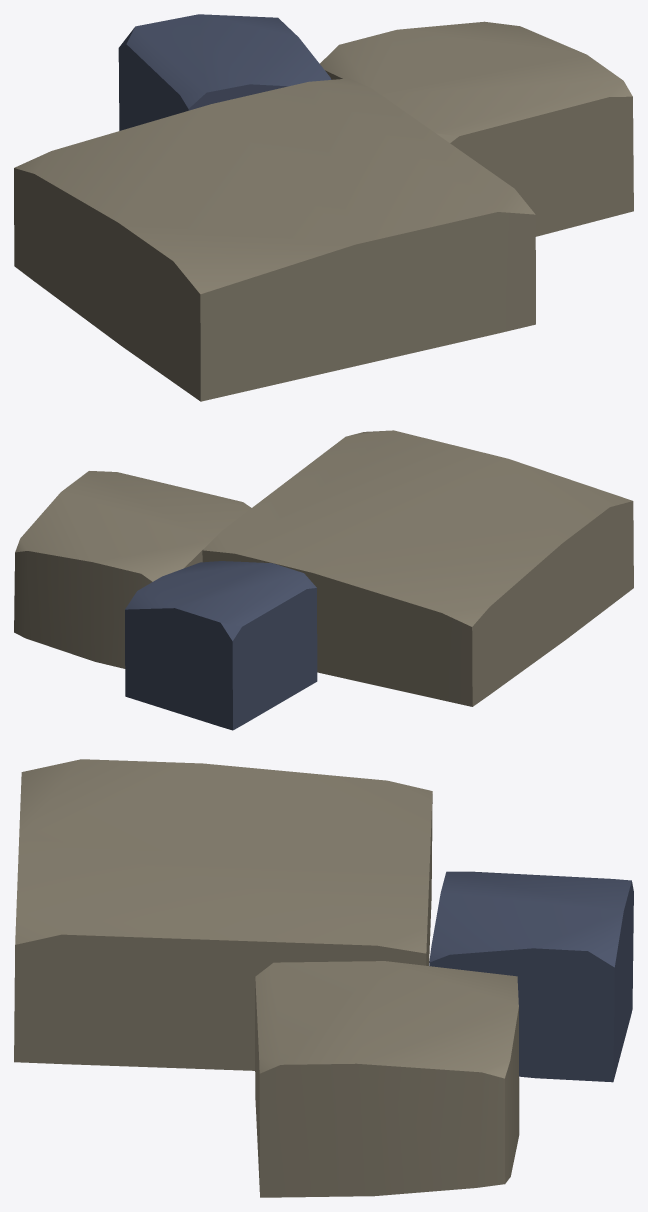
Rendered from Dalle_tile01.fbx.
The picture shows the model from 3 angles, top to bottom: view 1: azimuth 30°, elevation 25°; view 2: azimuth 150°, elevation 25°; view 3: azimuth 270°, elevation 25°; orthographic projection. The views are drawn at different scales.
Visible parts, largest first — view 1: Dalle_tile01; view 2: Dalle_tile01; view 3: Dalle_tile01.
Boxes of the visible parts, box(x1,y1,x2,y2) form: Dalle_tile01: box(14, 14, 633, 401); Dalle_tile01: box(14, 430, 633, 730); Dalle_tile01: box(14, 759, 633, 1197).
Size of the model in its own units: 124 by 31.6 by 114.
